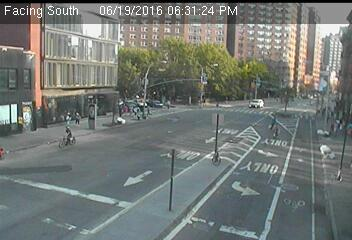neg: (95, 185, 115, 212), (59, 123, 78, 149), (171, 79, 190, 105), (206, 147, 224, 171), (171, 151, 189, 174), (54, 166, 71, 190), (86, 101, 102, 122), (117, 132, 133, 153), (150, 144, 165, 164), (247, 57, 262, 77), (293, 52, 308, 72), (45, 41, 59, 60), (285, 167, 299, 186), (206, 49, 220, 67), (245, 115, 259, 132), (318, 140, 331, 158), (125, 39, 138, 56), (268, 29, 281, 46), (91, 47, 102, 61), (169, 44, 180, 58)
